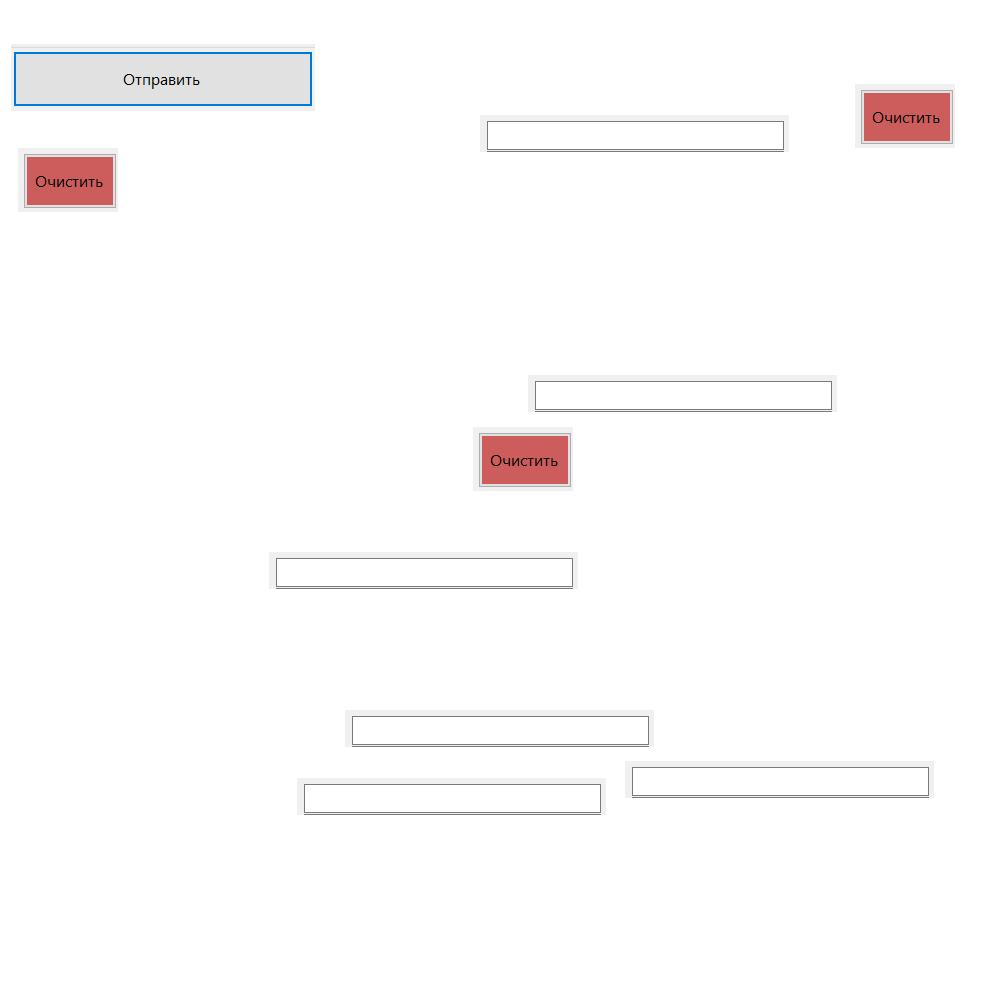Button: (11, 44, 315, 111), (18, 148, 118, 212), (473, 427, 573, 491), (855, 84, 955, 148)
EditText-: (345, 710, 654, 747), (269, 552, 578, 589), (528, 375, 837, 412), (480, 115, 789, 152), (625, 761, 934, 798), (297, 778, 606, 815)
